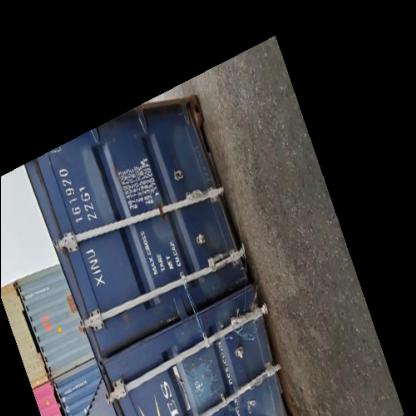Damage: (174, 350, 220, 406), (225, 296, 259, 346)
